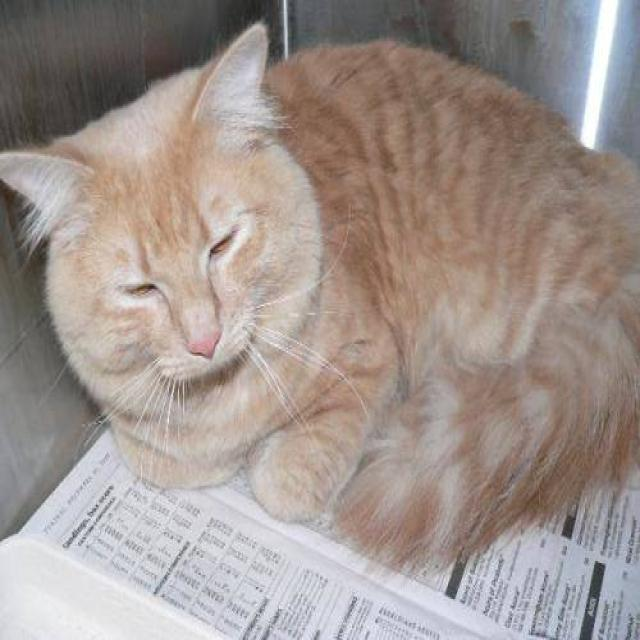cat: (0, 17, 639, 575)
